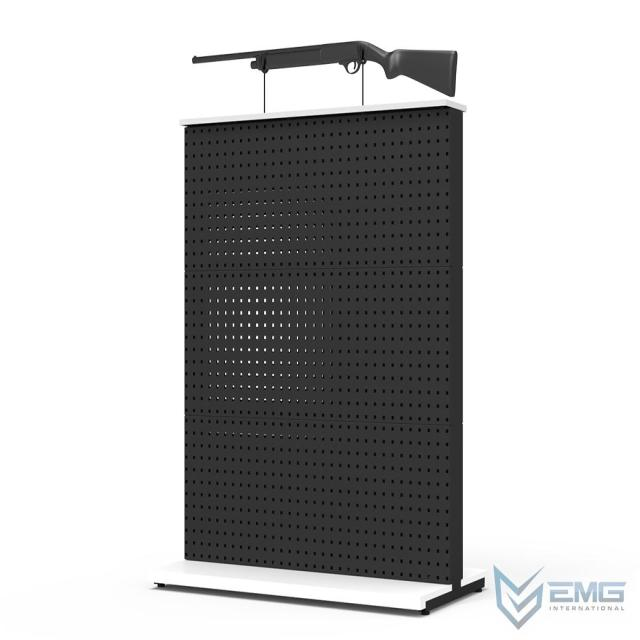ShotGun: (193, 42, 457, 95)
